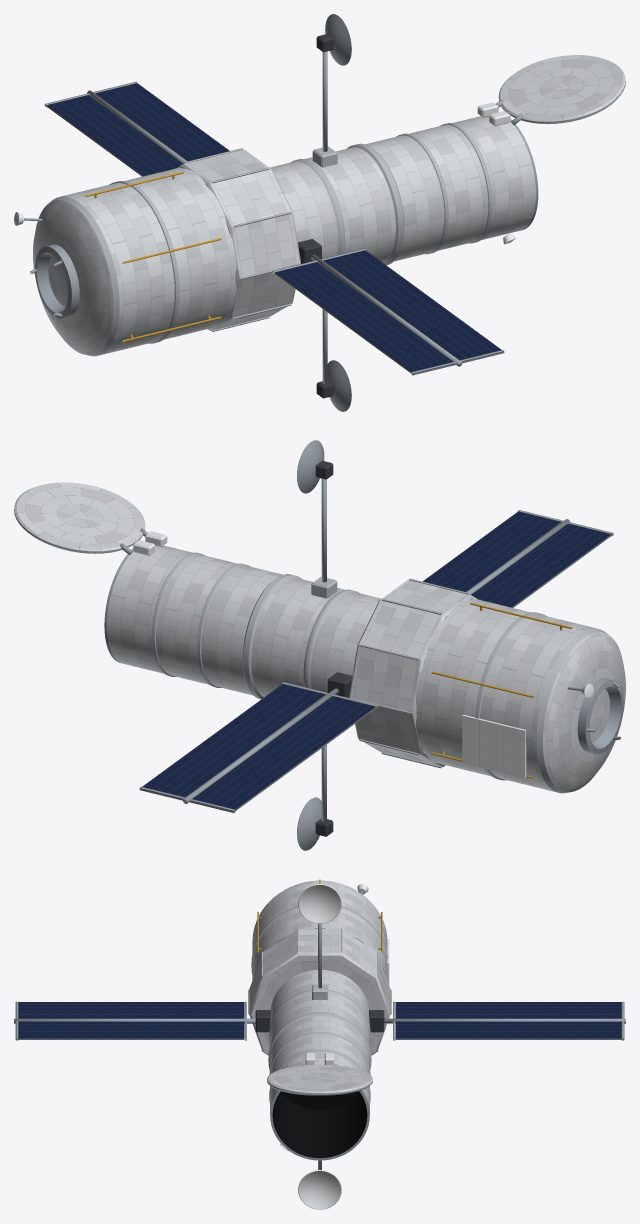
Rendered from hubble.glb.
3 renders of one model, top to bottom at view 1: azimuth 30°, elevation 25°; view 2: azimuth 150°, elevation 25°; view 3: azimuth 270°, elevation 25°, orthographic. The views are drawn at different scales.
Visible parts, largest first — view 1: hubble_skin, hubble, solar_2, solar_1; view 2: hubble_skin, hubble, solar_1, solar_2; view 3: hubble_skin, hubble, solar_1, solar_2.
Boxes of the visible parts, left/top/right/bottom form: hubble_skin: left=33, top=55, right=625, bottom=355; hubble: left=14, top=14, right=625, bottom=411; solar_2: left=272, top=239, right=504, bottom=375; solar_1: left=44, top=81, right=229, bottom=176; hubble_skin: left=14, top=482, right=625, bottom=792; hubble: left=14, top=440, right=623, bottom=850; solar_1: left=139, top=672, right=378, bottom=812; solar_2: left=423, top=510, right=613, bottom=607; hubble_skin: left=249, top=881, right=390, bottom=1112; hubble: left=248, top=879, right=391, bottom=1209; solar_1: left=369, top=1001, right=625, bottom=1040; solar_2: left=14, top=1001, right=270, bottom=1040.
Size of the model in its own units: 17.07 by 11.16 by 19.
Materials: 10 (3 with a texture image).
